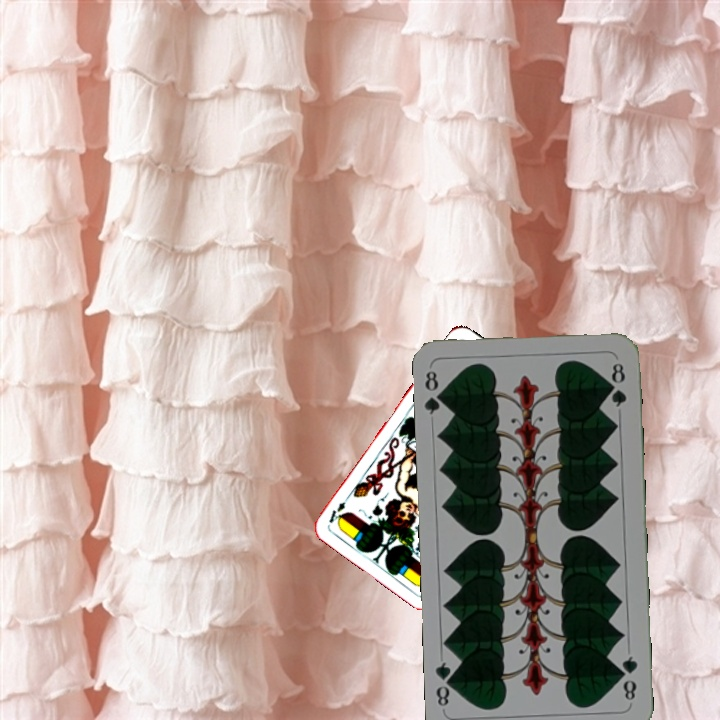G8: (421, 367, 448, 417), (616, 652, 640, 703)
